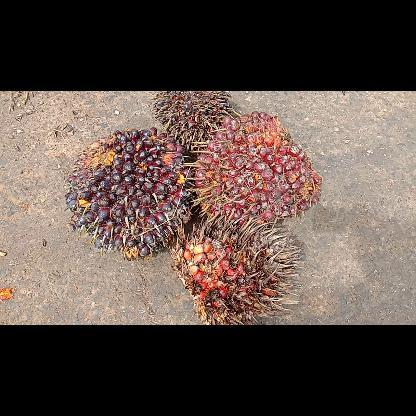Kurang masak: (63, 127, 194, 263)
TBS abnormal: (152, 91, 235, 155)
TBS masak: (191, 109, 323, 225)
Terlalu masak: (168, 214, 304, 324)
